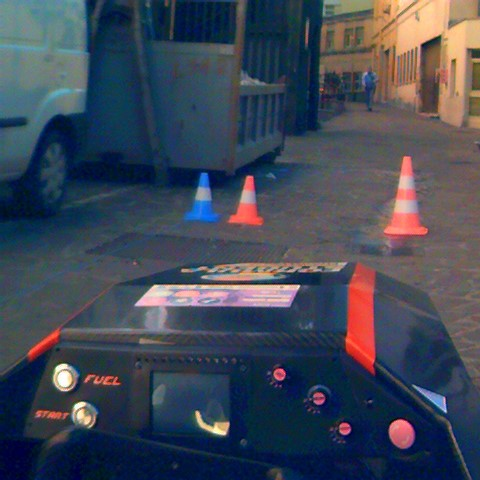cone: (181, 172, 223, 224)
